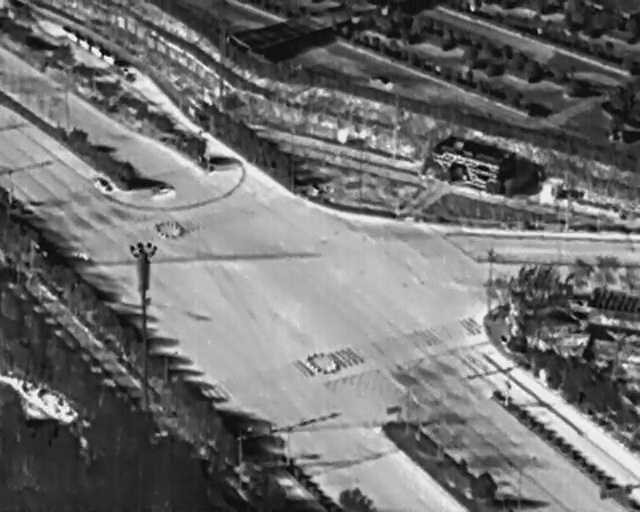Car: (92, 173, 116, 195), (150, 179, 177, 198)
